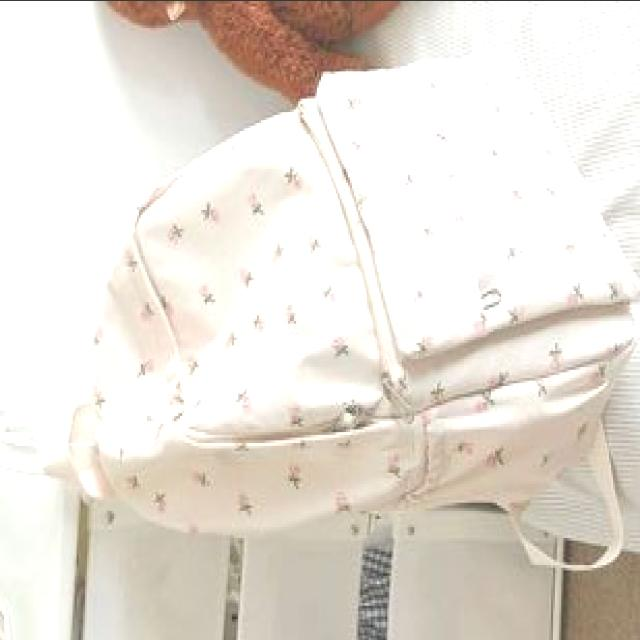backpack: (72, 45, 640, 581)
